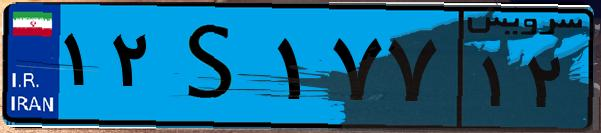1: (270, 28, 330, 110), (57, 26, 110, 100), (475, 38, 525, 113)
2: (525, 38, 570, 115), (110, 28, 158, 98)
7: (385, 28, 445, 110), (330, 28, 385, 110)
S: (158, 12, 270, 120)
